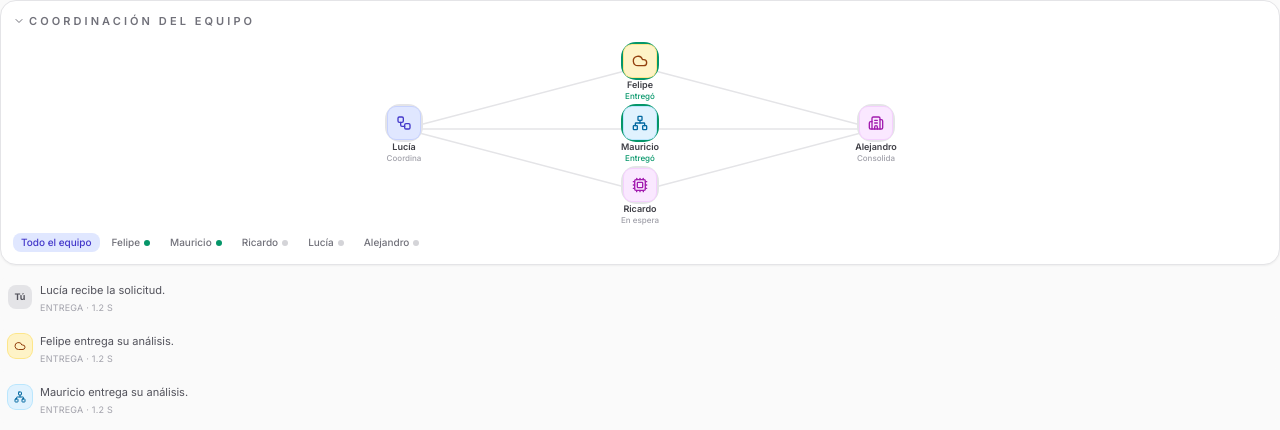
Scenario: TeamCoordinationPanel — inspection controls › narrows the log to one agent, because parallel threads interleave
Expected: the text "Felipe entrega su análisis." is shown, top-left (40, 334), bottom-right (174, 348)
Expected: the text "Mauricio entrega su análisis." is shown, top-left (40, 385), bottom-right (188, 399)
Click the button "Felipe" at [131, 242], box top-left (104, 233), bottom-right (158, 252)
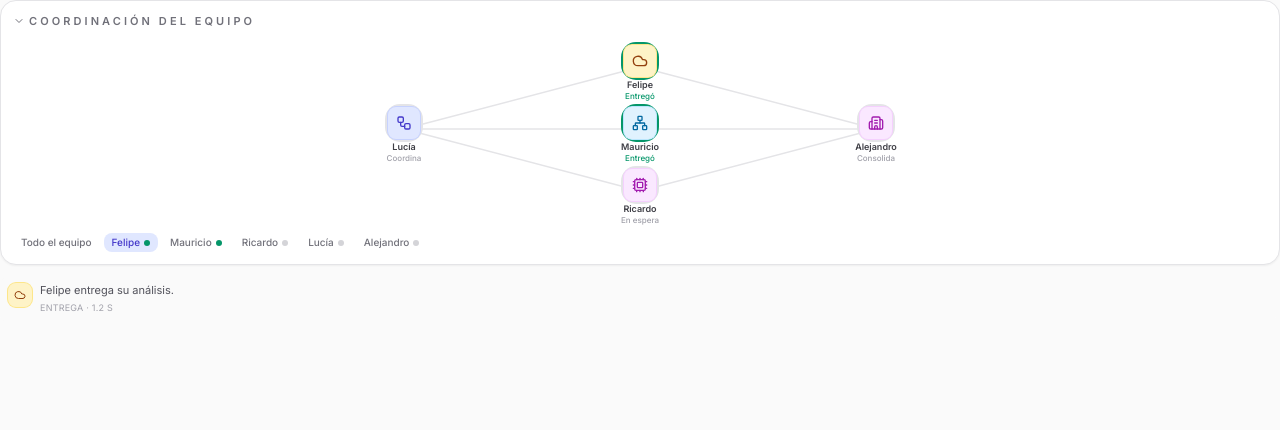
Expected: the text "Felipe entrega su análisis." is shown, top-left (40, 283), bottom-right (174, 297)
Expected: the text "Mauricio entrega" is gone
